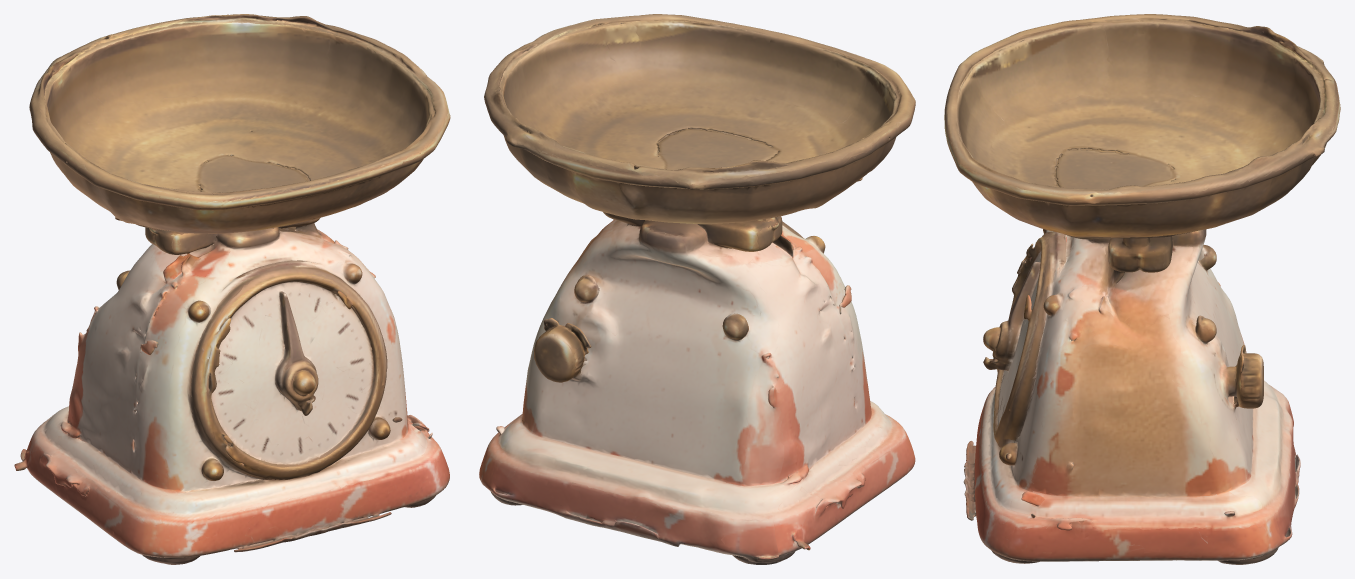
3 views of the same model, side by side, from view 1: azimuth 30°, elevation 25°; view 2: azimuth 150°, elevation 25°; view 3: azimuth 270°, elevation 25° (orthographic). The views are drawn at different scales.
Parts seen in each view (by area): view 1: A6_body; view 2: A6_body; view 3: A6_body.
Part boxes in pixels (<box>): A6_body: <box>14,14,450,564</box>; A6_body: <box>479,14,915,564</box>; A6_body: <box>944,14,1340,564</box>.
Size of the model in its own units: 0.3808 by 0.4 by 0.3543.
Materials: 1 (1 with a texture image).
